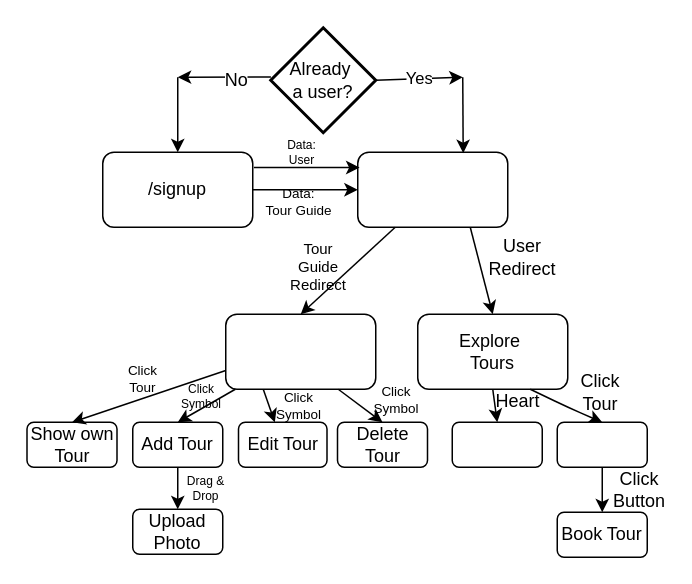
The diagram is 692 pixels wide and 584 high, and some of its shapes have lost their labels. The centre of each missing label's shape, as x and y in pixels:
"/login" goes at [432,189].
"DashBoard (Tours of Tour Guide)" goes at [300,351].
"Favorite" goes at [496,444].
"Tour Details" goes at [601,444].
